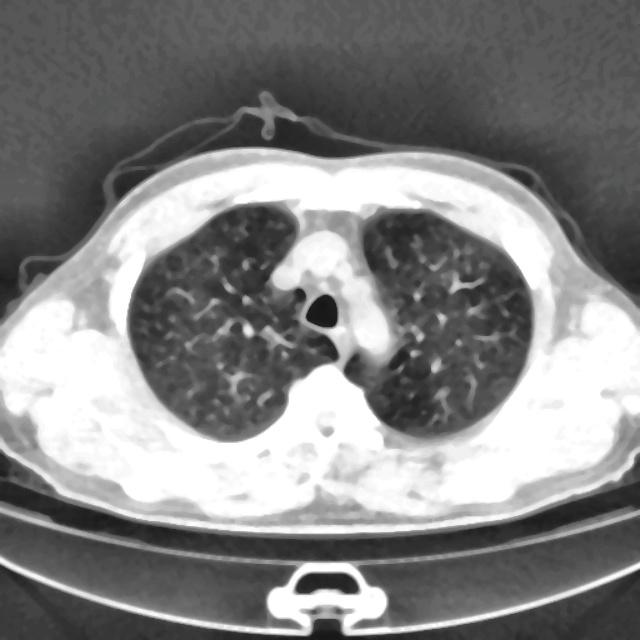covid: (0, 100, 639, 538)
